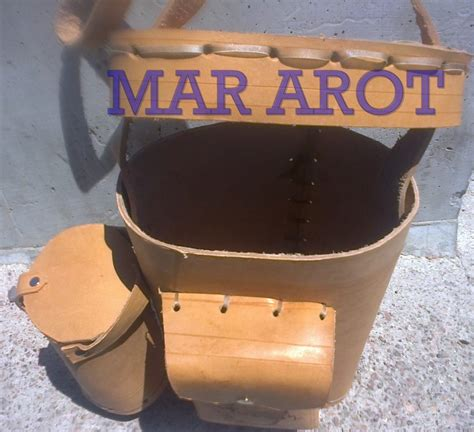cuero: (30, 5, 469, 432)
